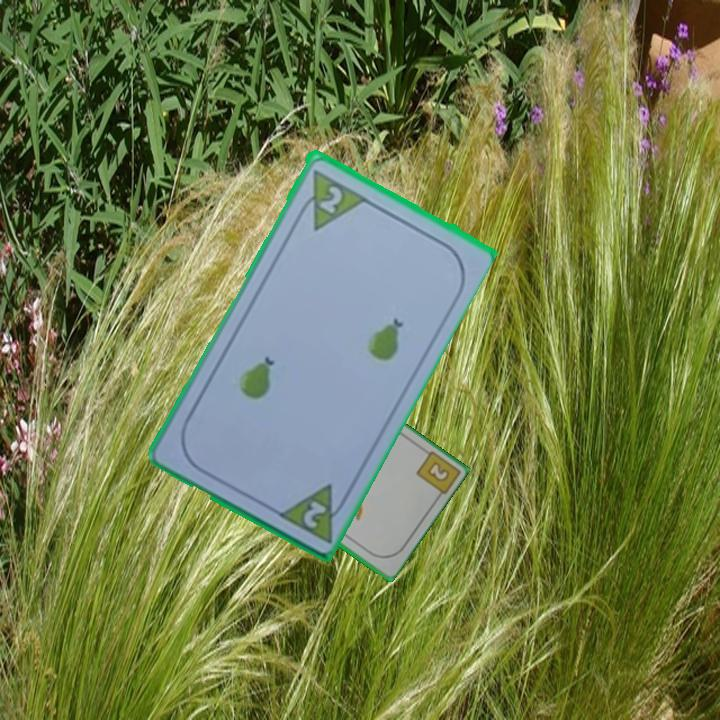2b: (423, 458, 452, 485)
2p: (272, 479, 352, 545), (315, 181, 346, 216)
